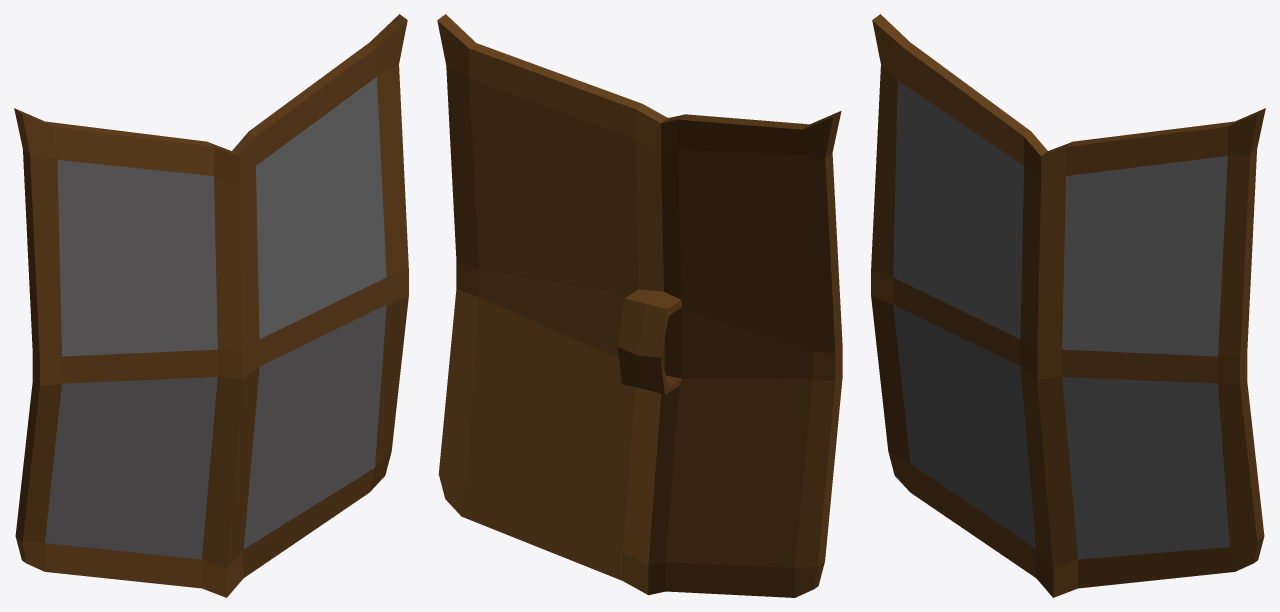
The model's file is IronKiteshield.glb.
3 renders of one model, left to right at view 1: azimuth 30°, elevation 25°; view 2: azimuth 150°, elevation 25°; view 3: azimuth 330°, elevation 25°, orthographic. The views are drawn at different scales.
Visible parts, largest first — view 1: Kiteshield; view 2: Kiteshield; view 3: Kiteshield.
Part boxes in pixels (bbox=[...]): Kiteshield: bbox=[14, 14, 408, 597]; Kiteshield: bbox=[437, 14, 842, 597]; Kiteshield: bbox=[871, 14, 1265, 597].
Size of the model in its own units: 0.6266 by 0.8115 by 0.12.
